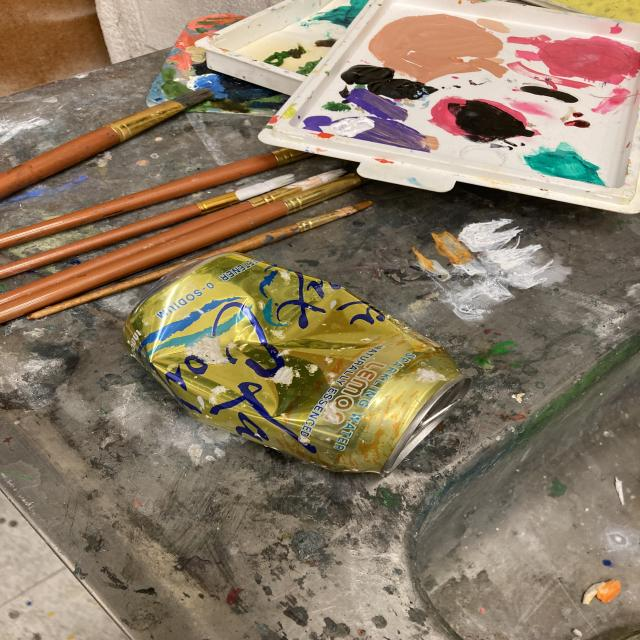can: (119, 244, 480, 483)
trash-zQNu: (118, 246, 480, 484)
